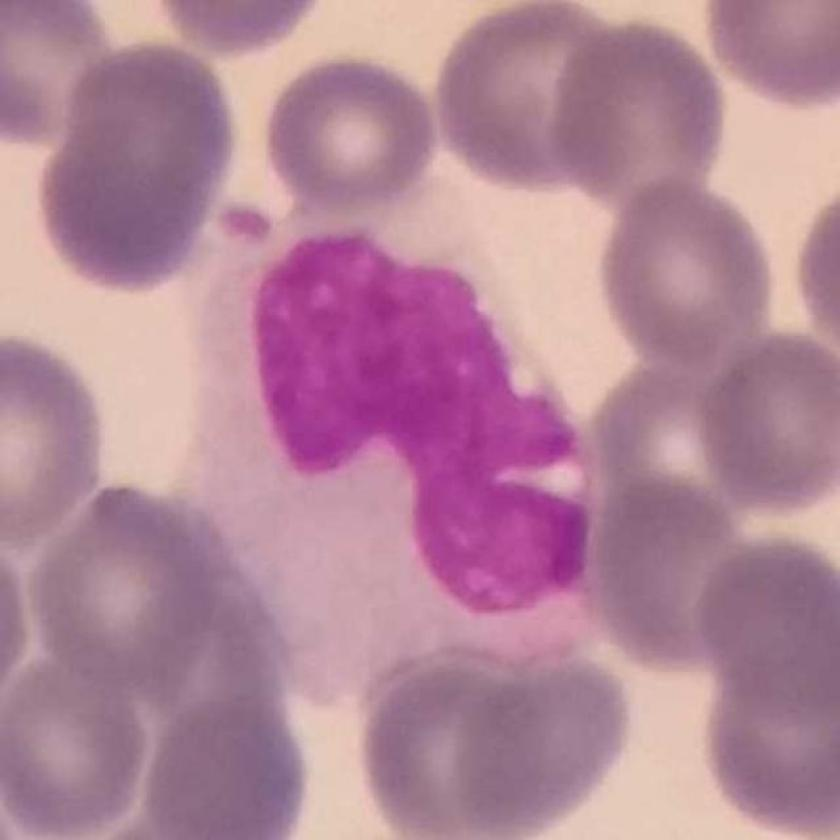monocyte: (182, 184, 604, 701)
